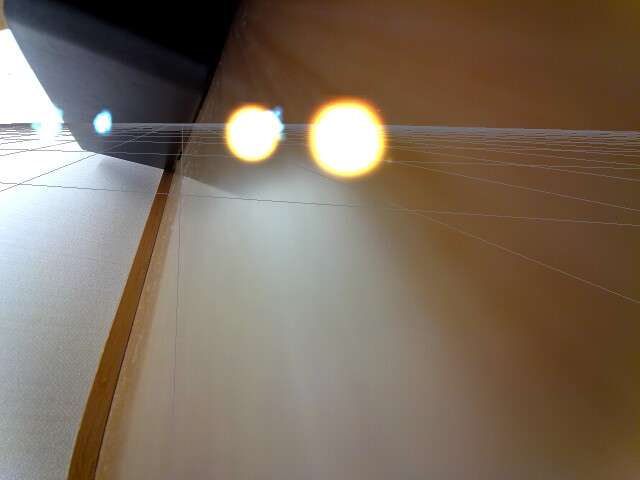firebig: (302, 81, 394, 186)
